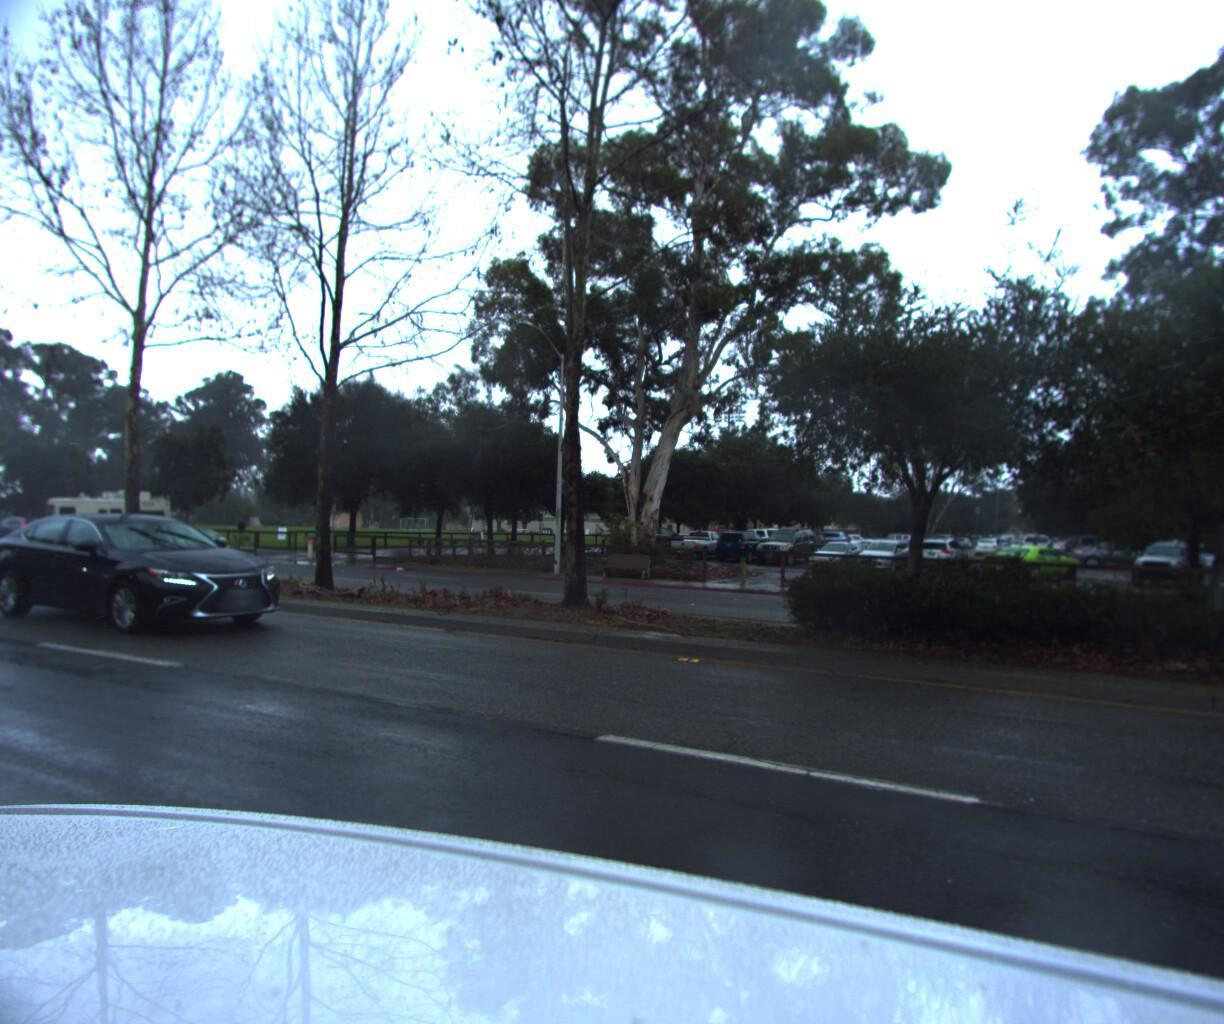car: (0, 507, 312, 645), (974, 541, 1084, 577), (1123, 539, 1205, 585), (144, 529, 238, 564), (0, 519, 56, 552), (0, 518, 4, 548)
other_vehicle: (32, 489, 185, 558)
